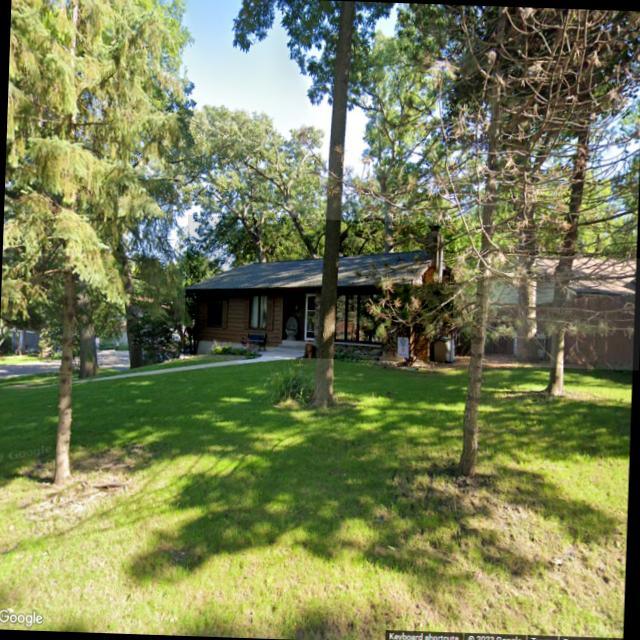House: (183, 215, 455, 362), (480, 253, 640, 370)
